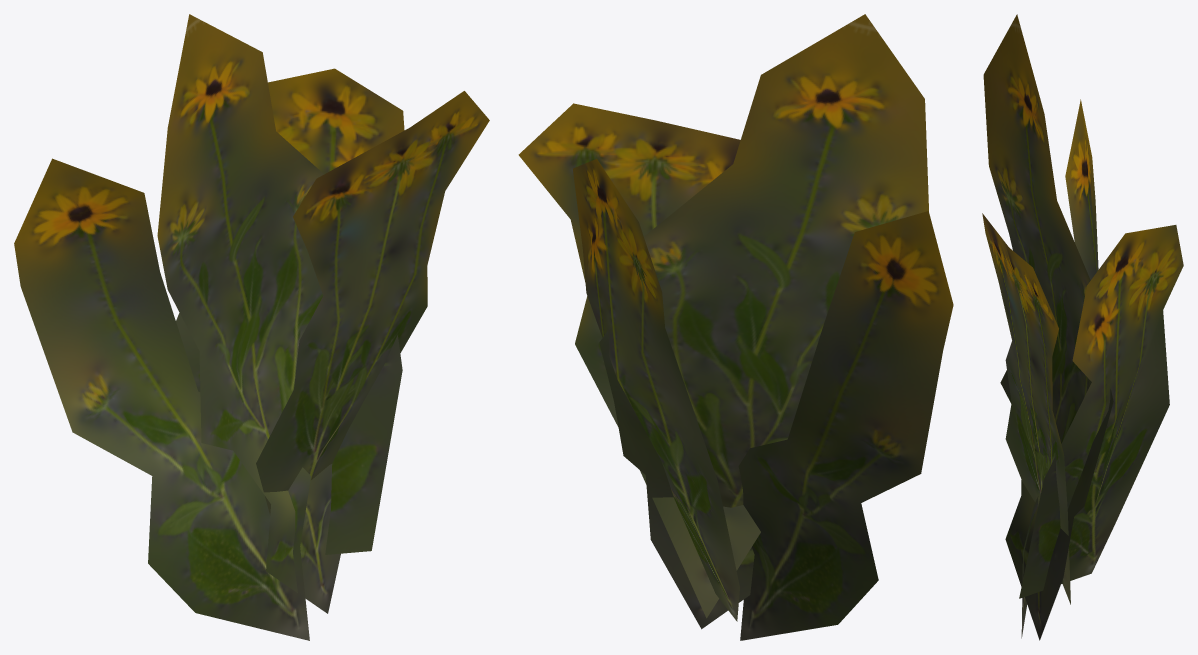
File: pm_susan.obj
The picture shows the model from 3 angles, left to right: view 1: azimuth 30°, elevation 25°; view 2: azimuth 150°, elevation 25°; view 3: azimuth 270°, elevation 25°; orthographic projection. The views are drawn at different scales.
Visible parts, largest first — view 1: Susan; view 2: Susan; view 3: Susan.
Part boxes in pixels (x1,y1,x2,y2): Susan: (14, 14, 489, 640); Susan: (518, 14, 953, 640); Susan: (982, 14, 1183, 640).
Bounding box in the file's own units: 0.6516 × 0.8981 × 0.2861.
